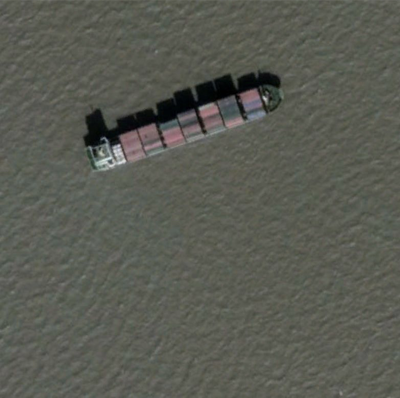boat: (86, 81, 285, 173)
